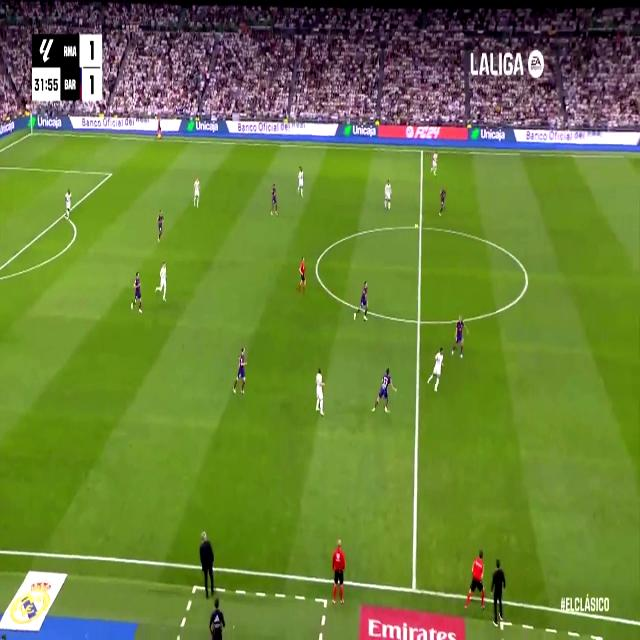bigarea_top_inner: (106, 166, 114, 181)
corner: (28, 127, 36, 137)
halfcircle_bottom: (414, 306, 424, 334)
halfcircle_top: (415, 215, 427, 238)
midline_bottom_intersection: (406, 569, 422, 603)
midline_top_intersection: (418, 142, 426, 158)
top_arc_area_intersection: (61, 207, 68, 221)
